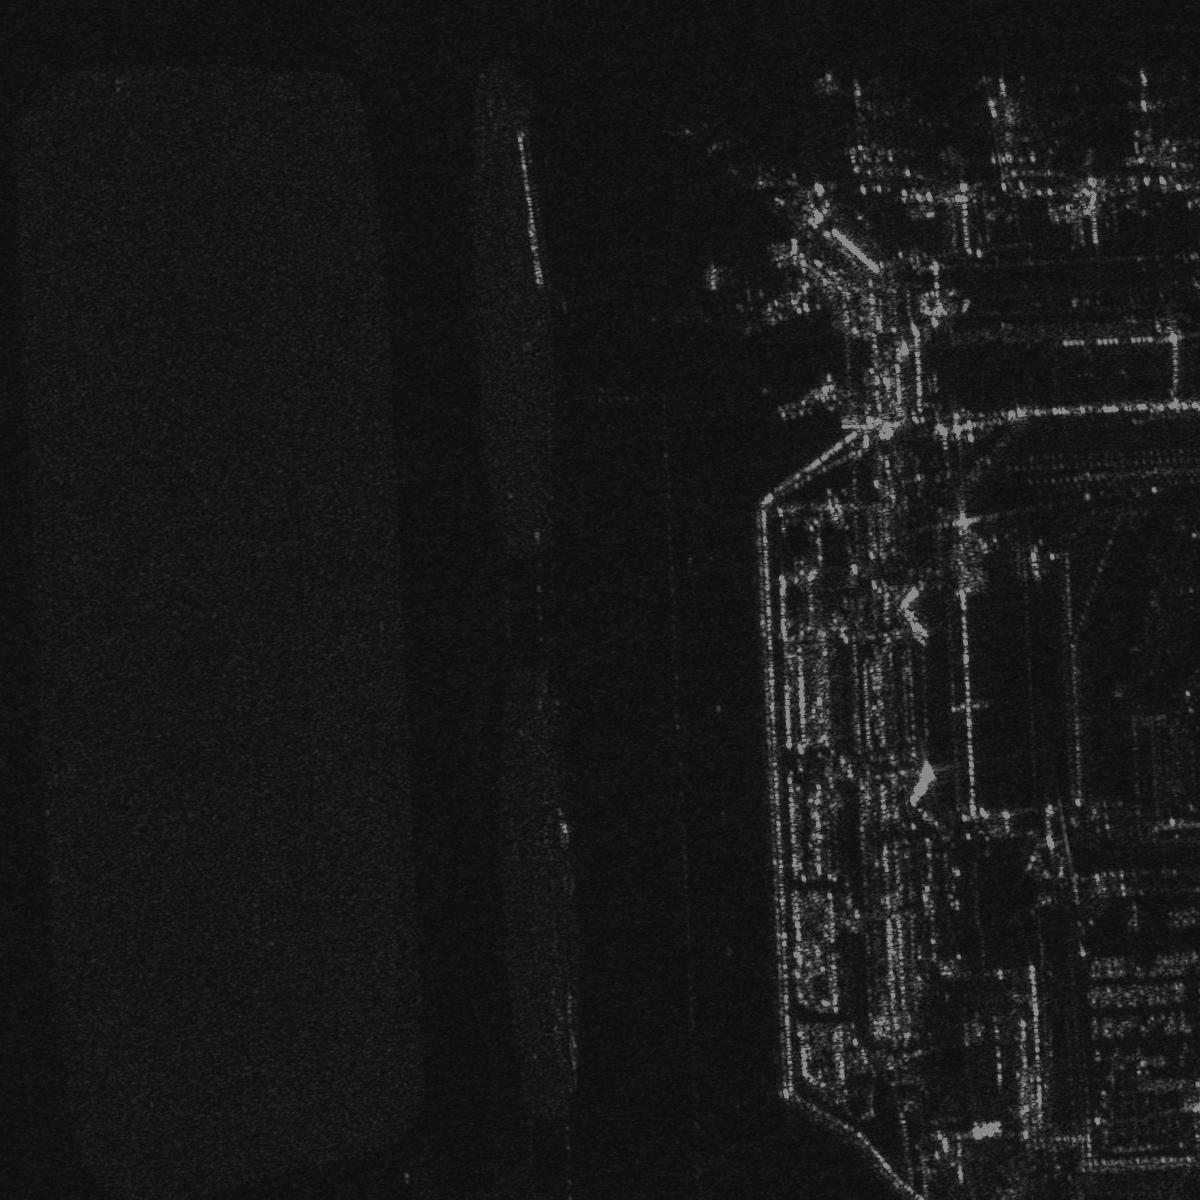A220: (973, 67, 1038, 147)
Boeing787: (1112, 64, 1179, 137)
other: (824, 68, 890, 138)
